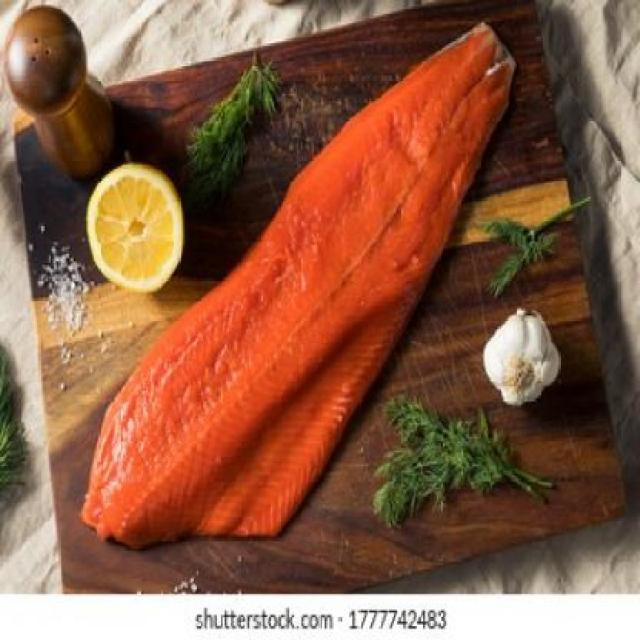salmon: (31, 23, 510, 546)
